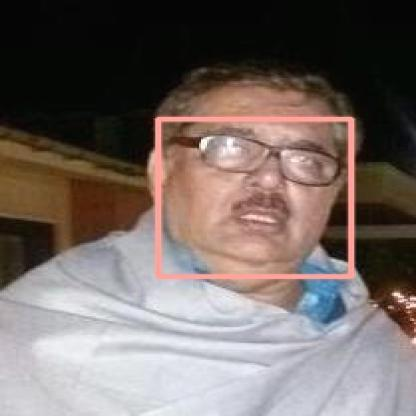without_mask: (158, 118, 351, 276)
